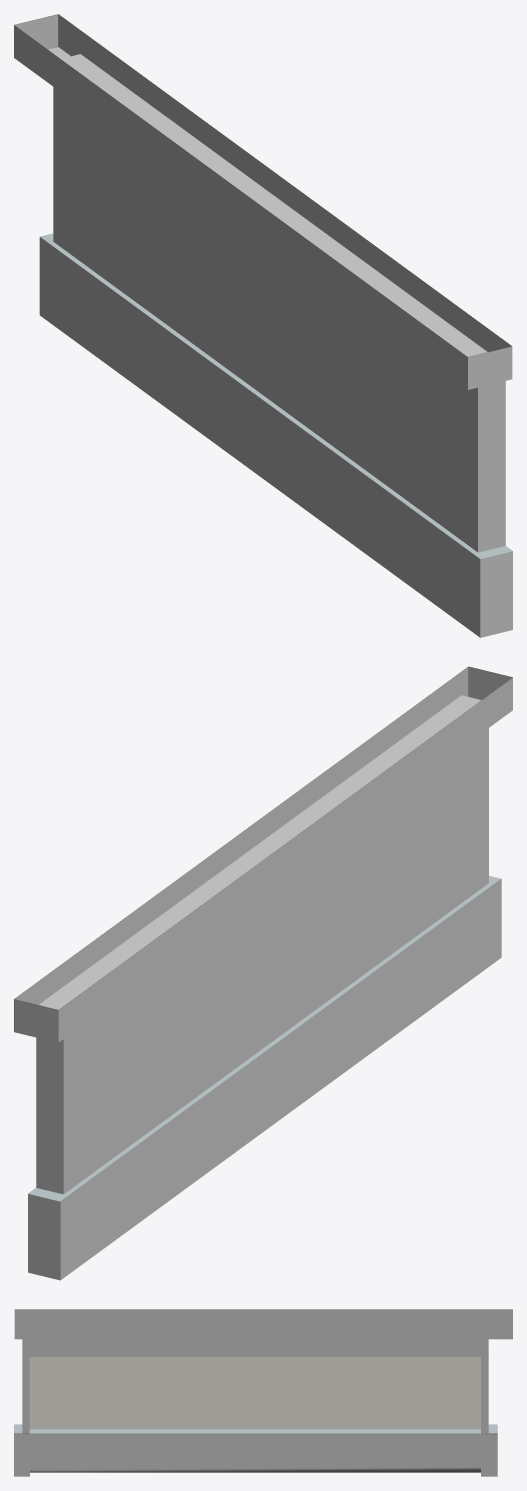
Rendered from police_station_wall_left.FBX.
The picture shows the model from 3 angles, top to bottom: view 1: azimuth 30°, elevation 25°; view 2: azimuth 150°, elevation 25°; view 3: azimuth 270°, elevation 25°; orthographic projection. The views are drawn at different scales.
Parts seen in each view (by area): view 1: police_station_wall_left_002; view 2: police_station_wall_left_002; view 3: police_station_wall_left_002.
Boxes of the visible parts, x1,y1,x2,y2 form: police_station_wall_left_002: (14, 14, 512, 637); police_station_wall_left_002: (14, 666, 512, 1280); police_station_wall_left_002: (14, 1309, 512, 1476).
Size of the model in its own units: 232 by 1410 by 4102.
Materials: 1 (1 with a texture image).
